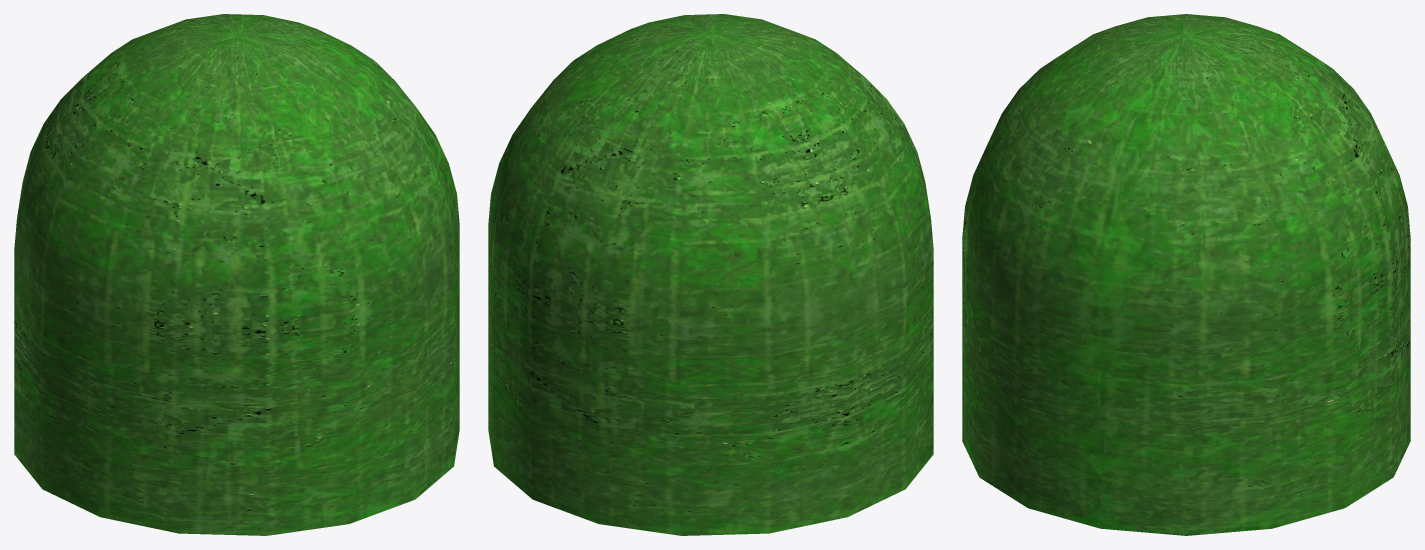
Rendered from bush2.fbx.
3 renders of one model, left to right at view 1: azimuth 30°, elevation 25°; view 2: azimuth 150°, elevation 25°; view 3: azimuth 270°, elevation 25°, orthographic.
Parts seen in each view (by area): view 1: SP_Bush; view 2: SP_Bush; view 3: SP_Bush.
Part boxes in pixels (x1,y1,x2,y2): SP_Bush: (14, 14, 459, 535); SP_Bush: (488, 14, 933, 535); SP_Bush: (962, 14, 1410, 535).
Bounding box in the file's own units: 100 × 100 × 100.
